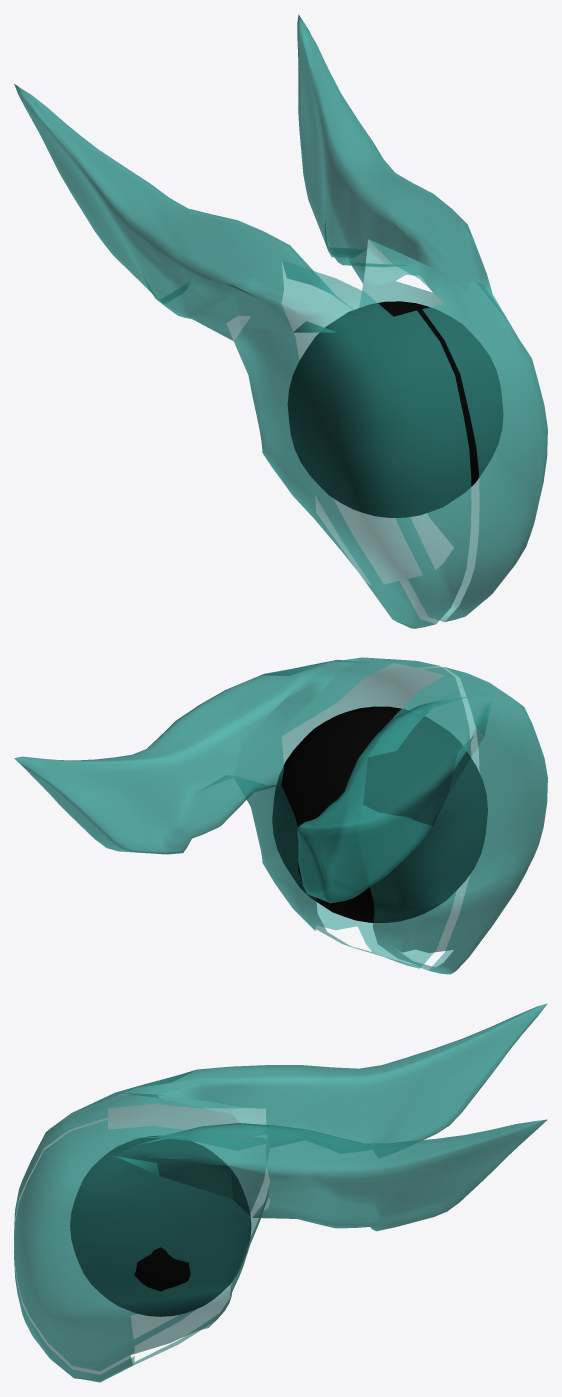
File: MechHead.fbx
3 renders of one model, top to bottom at view 1: azimuth 30°, elevation 25°; view 2: azimuth 150°, elevation 25°; view 3: azimuth 270°, elevation 25°, orthographic. The views are drawn at different scales.
Visible parts, largest first — view 1: polySurface63; view 2: polySurface63; view 3: polySurface63.
Boxes of the visible parts, left/top/right/bottom form: polySurface63: left=14, top=14, right=547, bottom=628; polySurface63: left=14, top=657, right=547, bottom=974; polySurface63: left=14, top=1003, right=547, bottom=1382.
Bounding box in the file's own units: 1.49 × 1.86 × 2.89.
